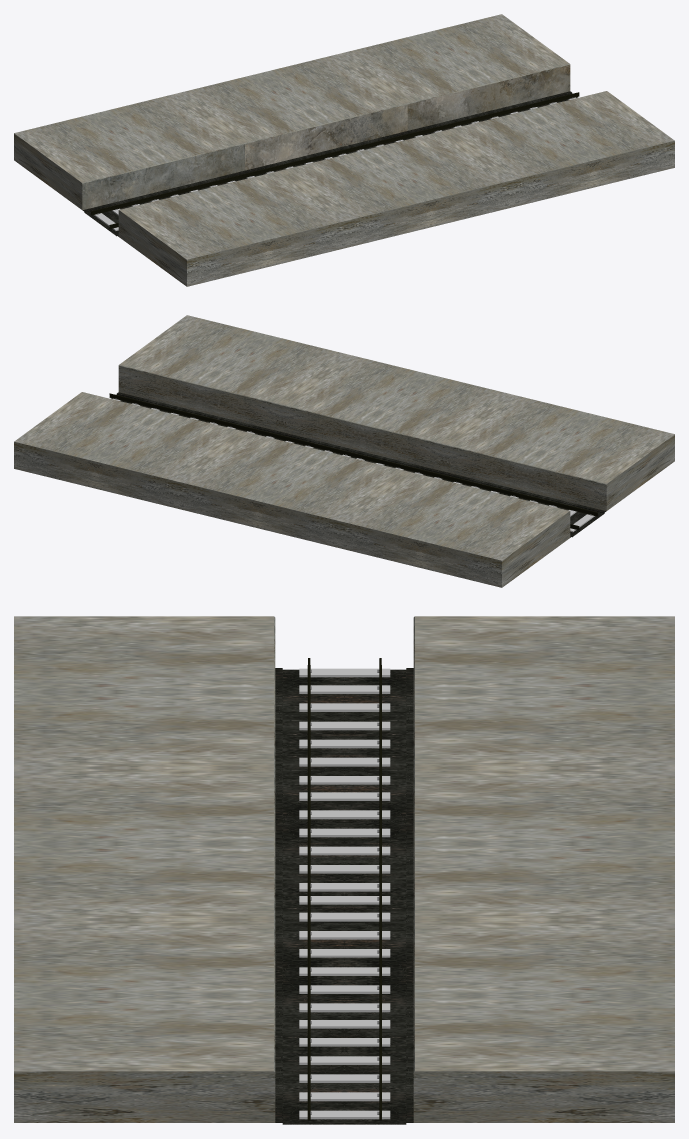
File: tracks.fbx
The picture shows the model from 3 angles, top to bottom: view 1: azimuth 30°, elevation 25°; view 2: azimuth 150°, elevation 25°; view 3: azimuth 270°, elevation 25°; orthographic projection. The views are drawn at different scales.
Visible parts, largest first — view 1: Cube.012; view 2: Cube.012; view 3: Cube.012.
Part boxes in pixels (x1,y1,x2,y2): Cube.012: [14, 14, 674, 286]; Cube.012: [14, 315, 674, 587]; Cube.012: [14, 616, 674, 1124].
Bounding box in the file's own units: 1200 × 65.76 × 737.
